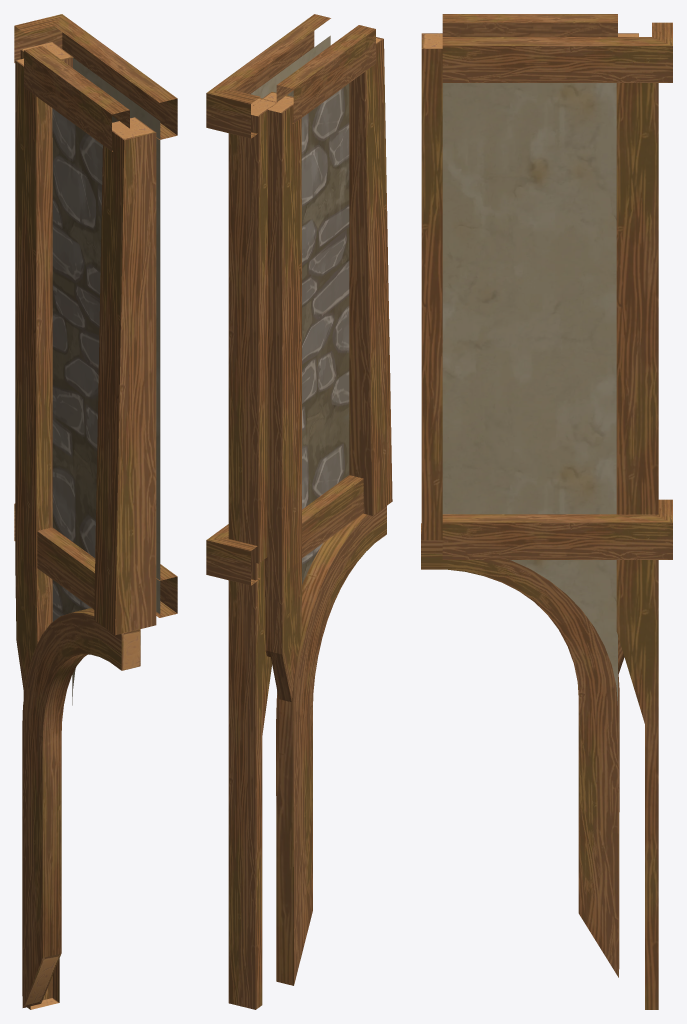
The model's file is Overhang_Side_UnevenBrick_Short_L.glb.
3 views of the same model, side by side, from view 1: azimuth 30°, elevation 25°; view 2: azimuth 150°, elevation 25°; view 3: azimuth 270°, elevation 25° (orthographic). The views are drawn at different scales.
Visible parts, largest first — view 1: Overhang_Side_UnevenBrick_Short_L; view 2: Overhang_Side_UnevenBrick_Short_L; view 3: Overhang_Side_UnevenBrick_Short_L.
Boxes of the visible parts, bbox=[...] form: Overhang_Side_UnevenBrick_Short_L: bbox=[14, 14, 177, 1009]; Overhang_Side_UnevenBrick_Short_L: bbox=[206, 14, 392, 1009]; Overhang_Side_UnevenBrick_Short_L: bbox=[421, 14, 672, 1009].
Size of the model in its own units: 0.4794 by 6.12 by 1.44.
Materials: 3 (3 with a texture image).
